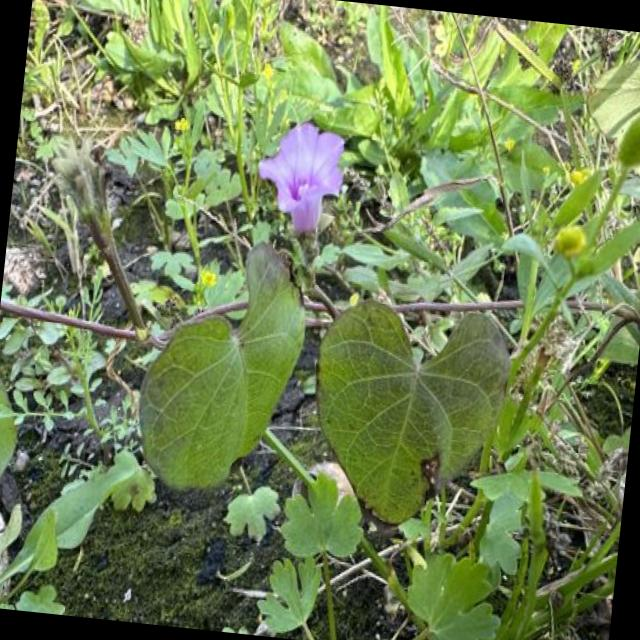ipomoea: (247, 114, 352, 242)
